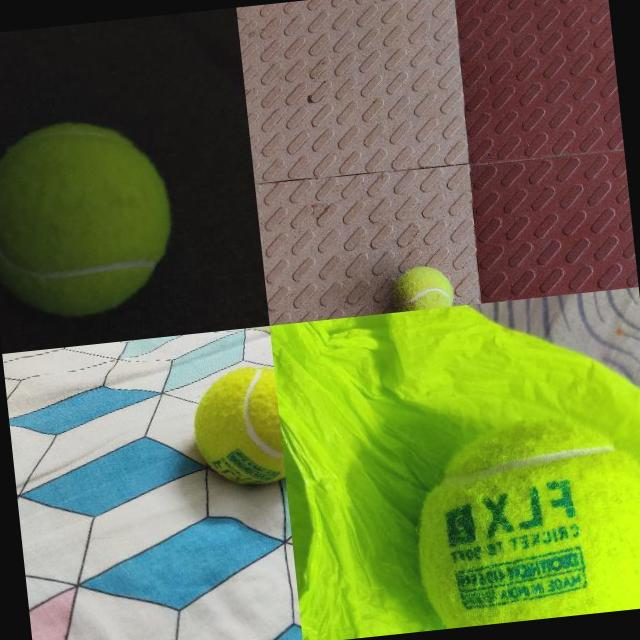Tennis Ball: (403, 406, 640, 630), (0, 111, 181, 323), (187, 364, 286, 490), (389, 263, 454, 311)
